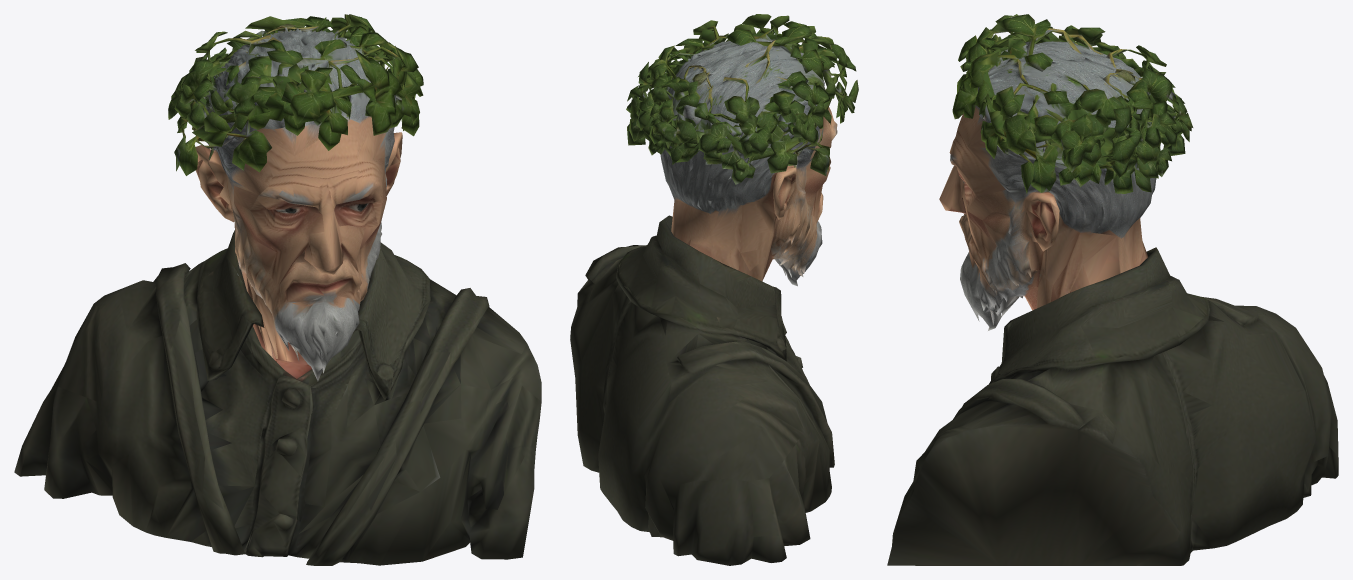
Rendered from sitter_08.glb.
3 renders of one model, left to right at view 1: azimuth 30°, elevation 25°; view 2: azimuth 150°, elevation 25°; view 3: azimuth 270°, elevation 25°, orthographic. The views are drawn at different scales.
Visible parts, largest first — view 1: sitter_08; view 2: sitter_08; view 3: sitter_08.
Boxes of the visible parts, x1,y1,x2,y2 form: sitter_08: (14, 14, 541, 565); sitter_08: (570, 14, 858, 565); sitter_08: (887, 14, 1338, 565).
Size of the model in its own units: 0.367 by 0.5003 by 0.4363.
Materials: 1 (1 with a texture image).
